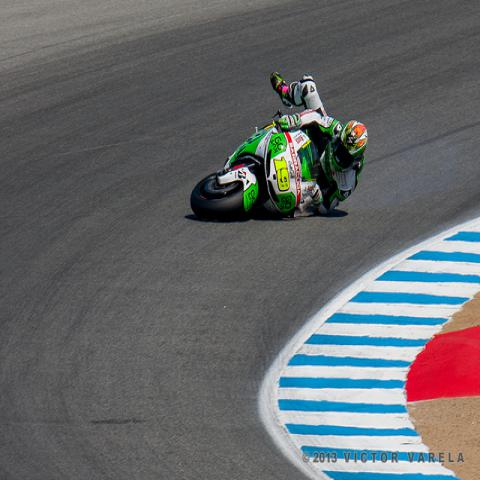motorcycle: (189, 124, 323, 220)
